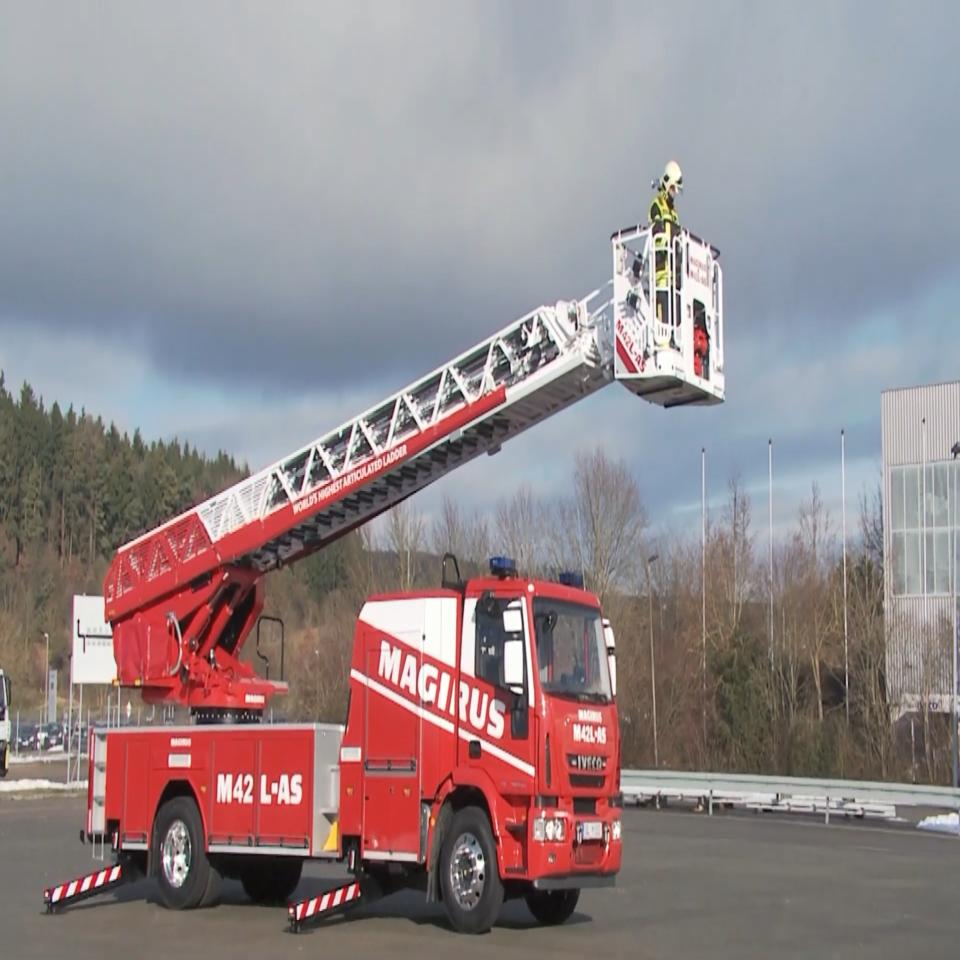viatura: (38, 253, 726, 937)
